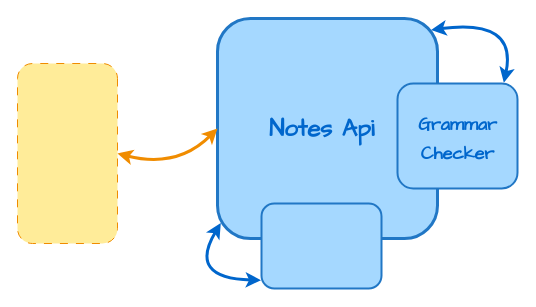
Image size: 536x307. Some labels were removed from this diagram. Here are the shapes that lost their labels. From the top down, the centre of each, then its label:
the point at 67,153: Note Talking App
the point at 321,245: Markdown Renderer
